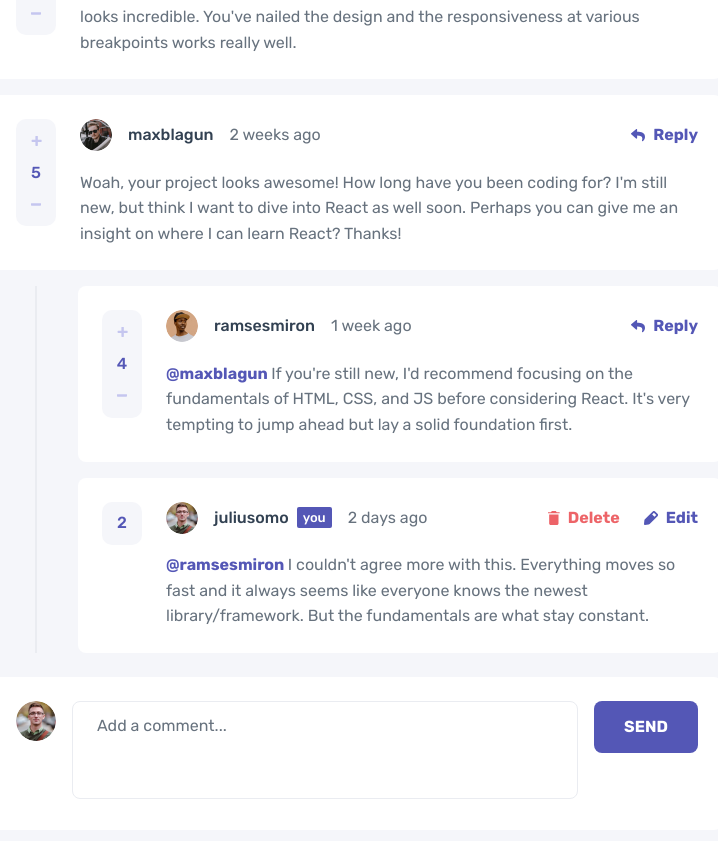
Test: App › adds a new comment and resets the input when the comment composer is submitted, the new comment gets current user actions
(page scrolled)
Type "This is a new comment" into the text box labelled "Add a comment..." at x=325, y=750, box x1=72 y1=701 x2=578 y2=799
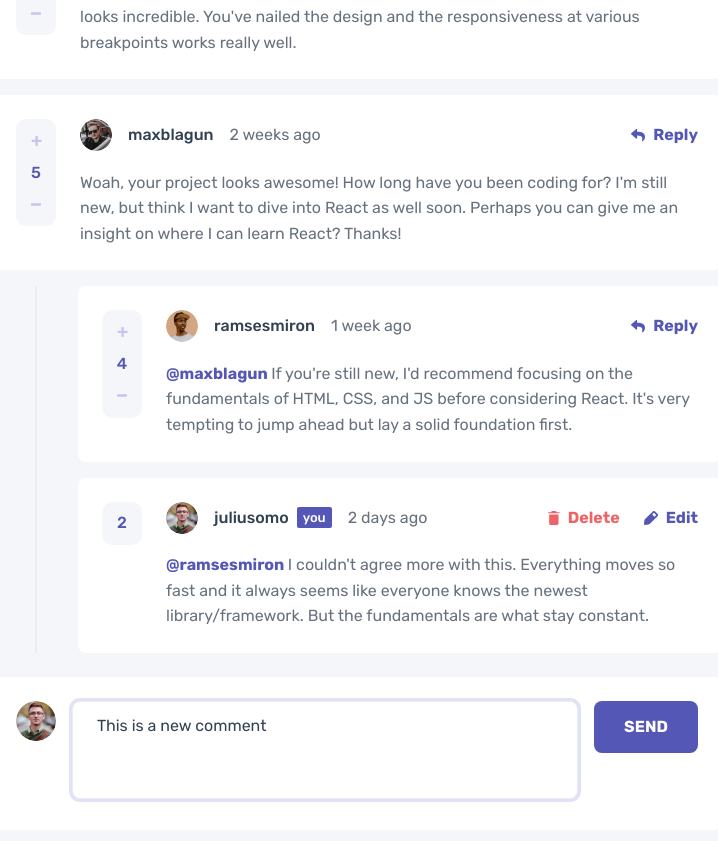
Click the button "Send" at x=646, y=727, box x1=594 y1=701 x2=698 y2=753
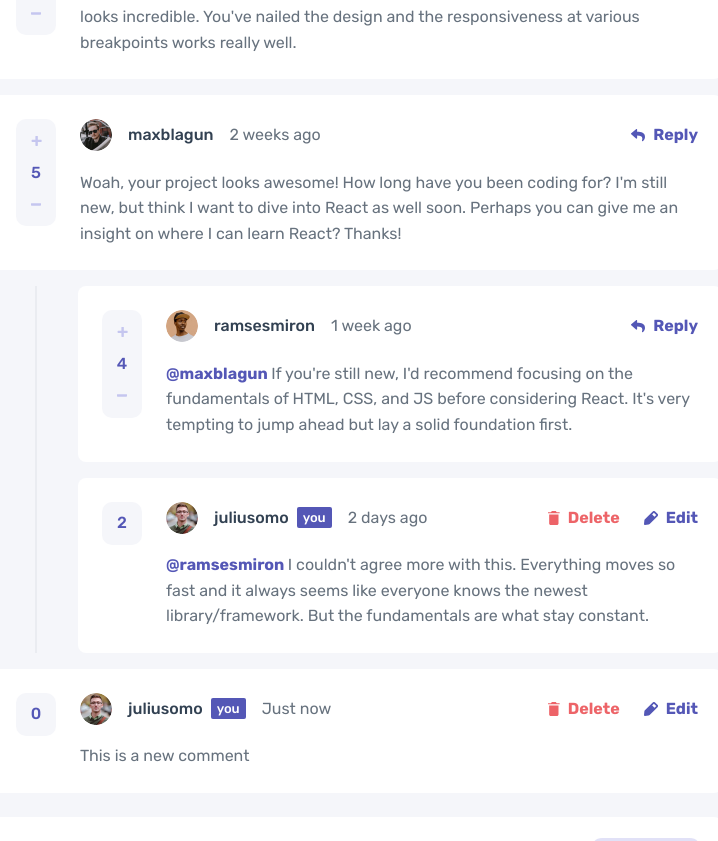
Result: the text "This is a new comment" is shown at x1=80 y1=746 x2=249 y2=765
Result: the button "Edit" in the row of "Just now" is shown at x1=644 y1=693 x2=698 y2=725
Result: the button "Delete" in the row of "Just now" is shown at x1=548 y1=693 x2=620 y2=725
